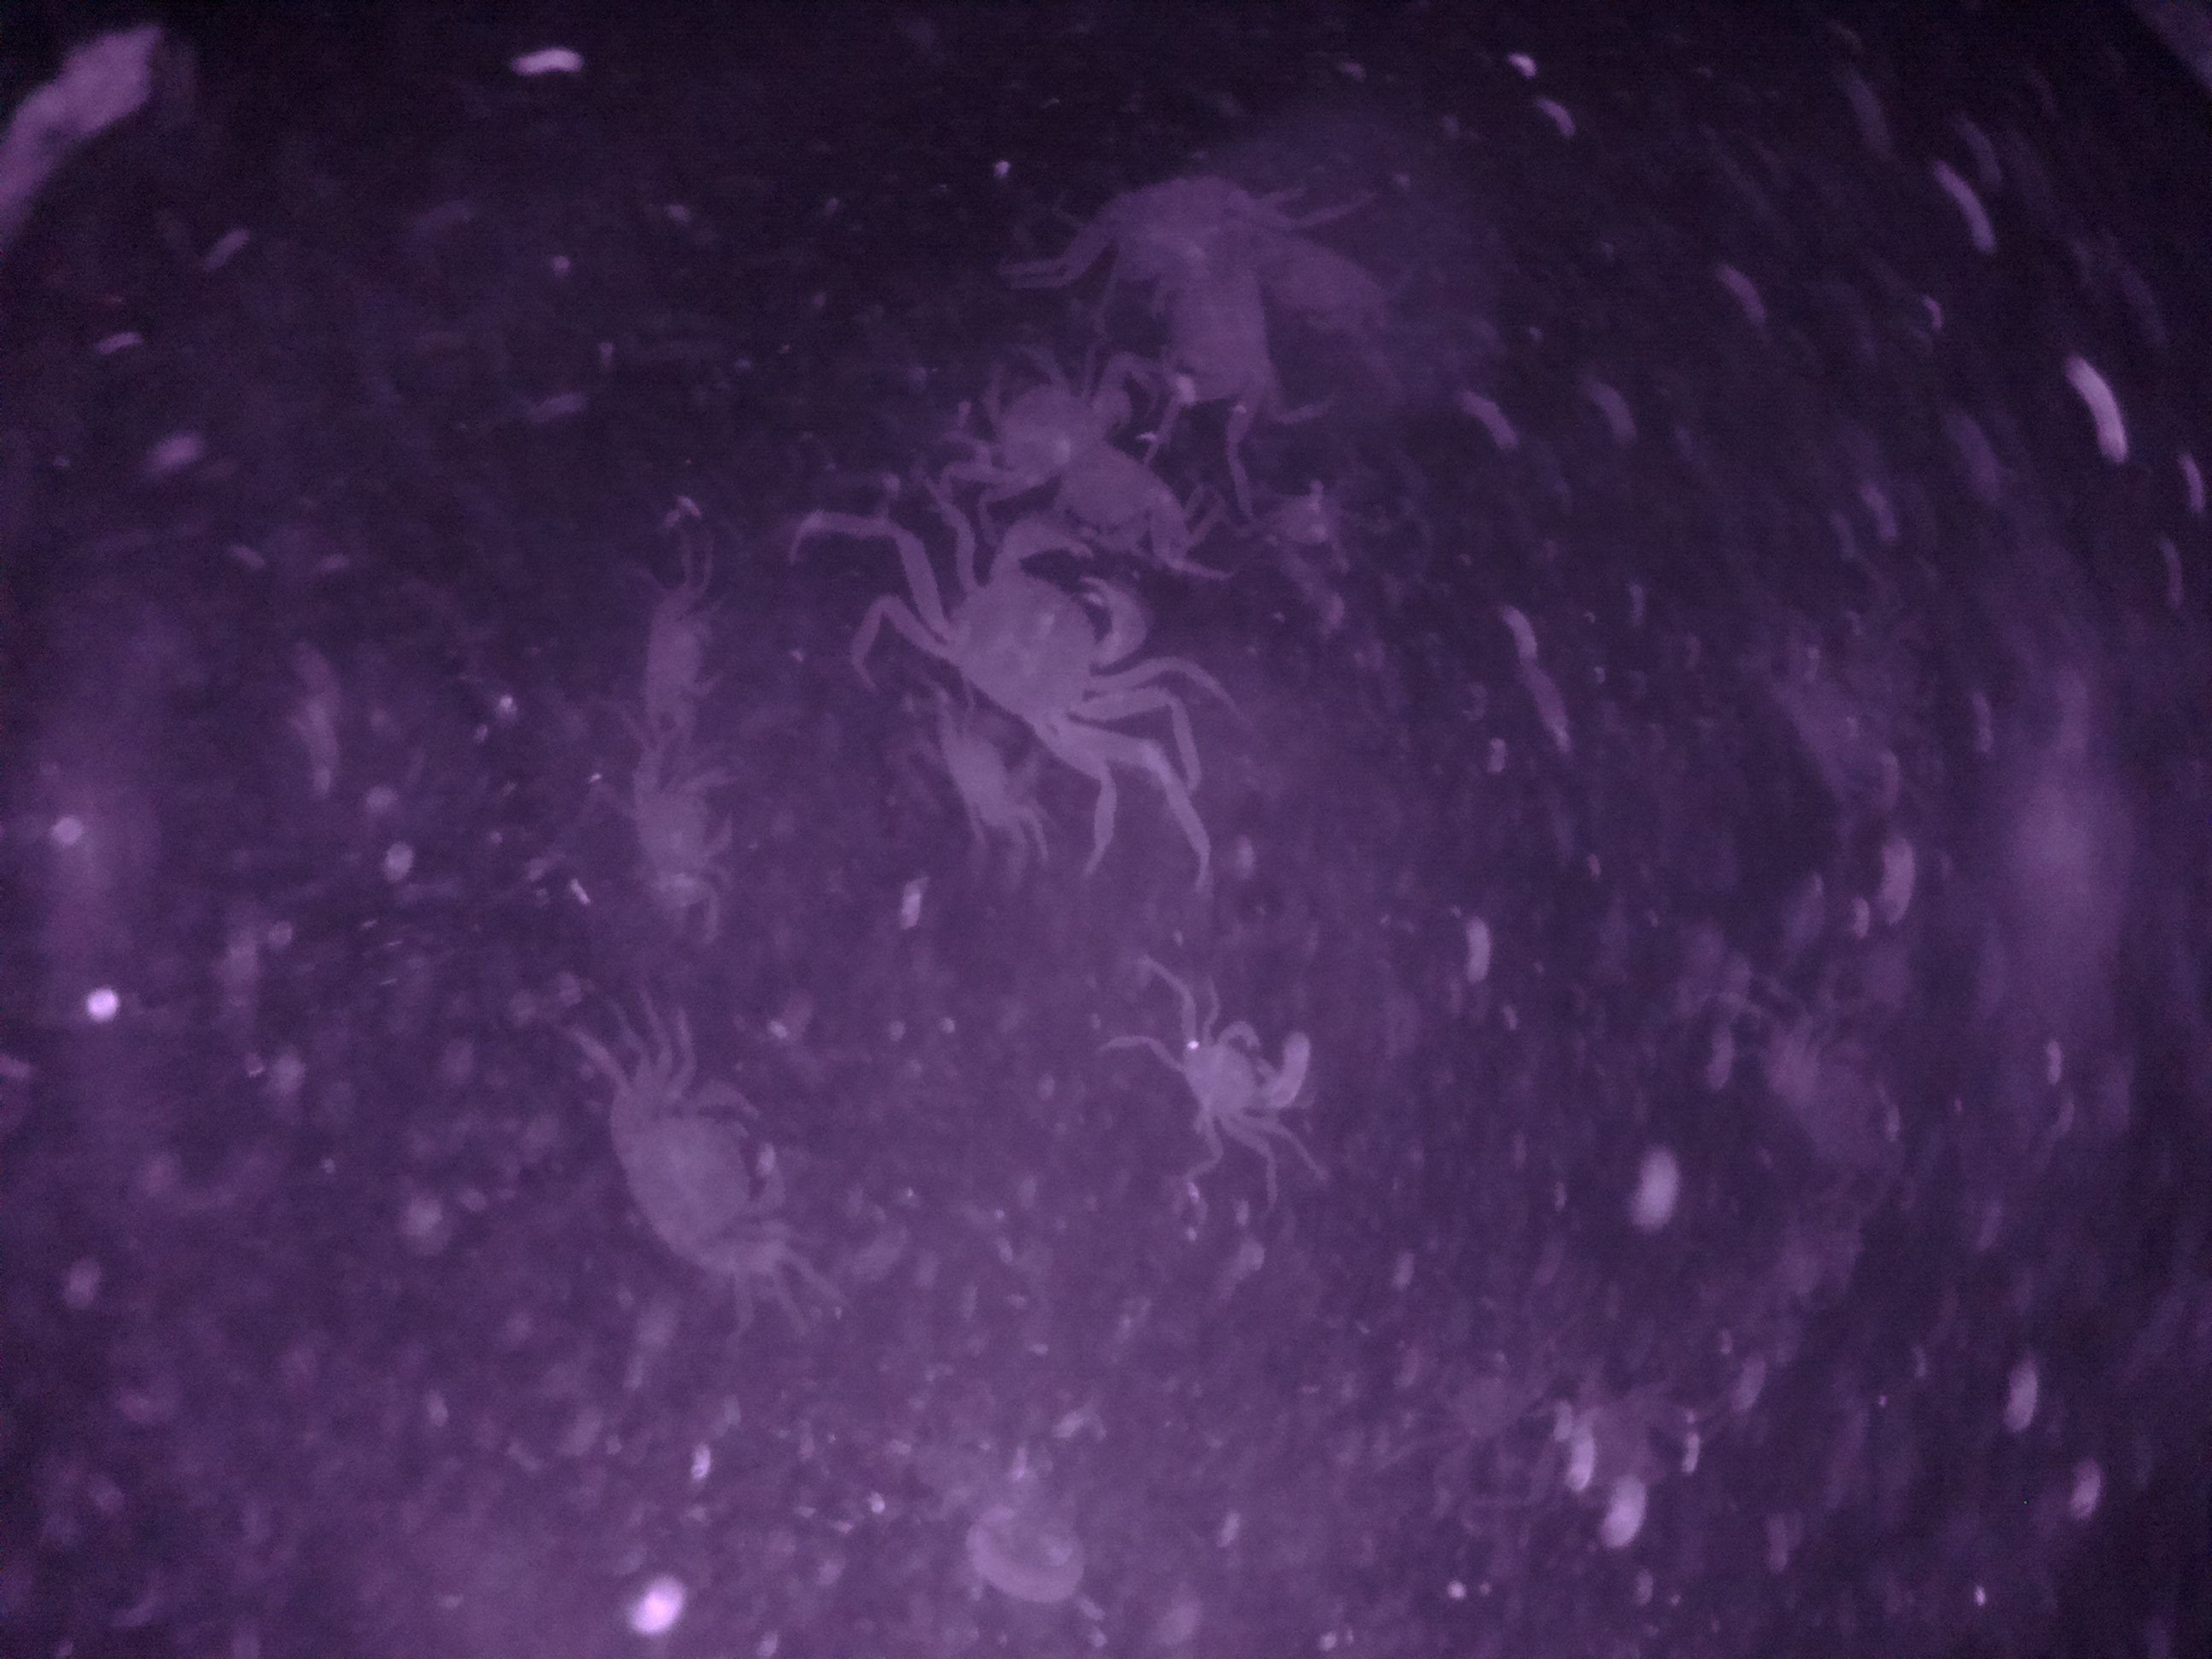Crab: (902, 518, 1158, 765), (587, 1060, 796, 1293), (1157, 999, 1303, 1143)
